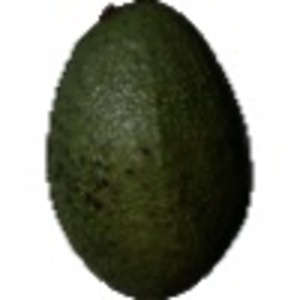abacate: (44, 1, 255, 297)
